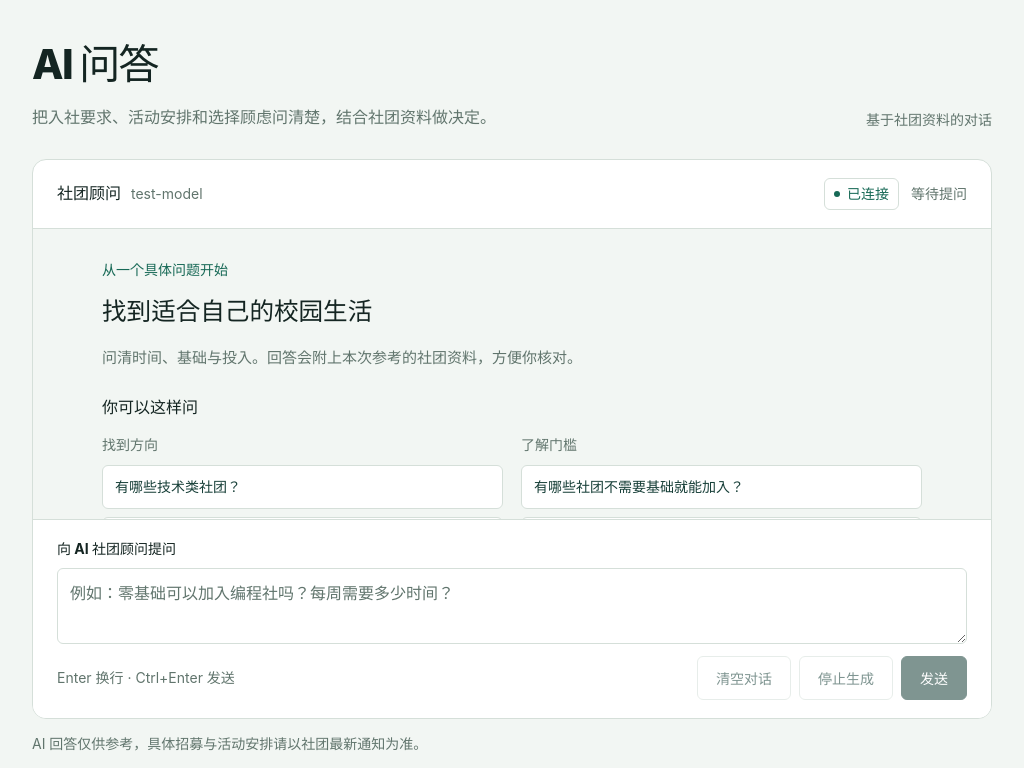
Chat decision workspace › keeps stream errors below the affected partial answer and retries the same question
Click the button "有哪些技术类社团？".
click(178, 486)  # box x1=102 y1=465 x2=503 y2=509
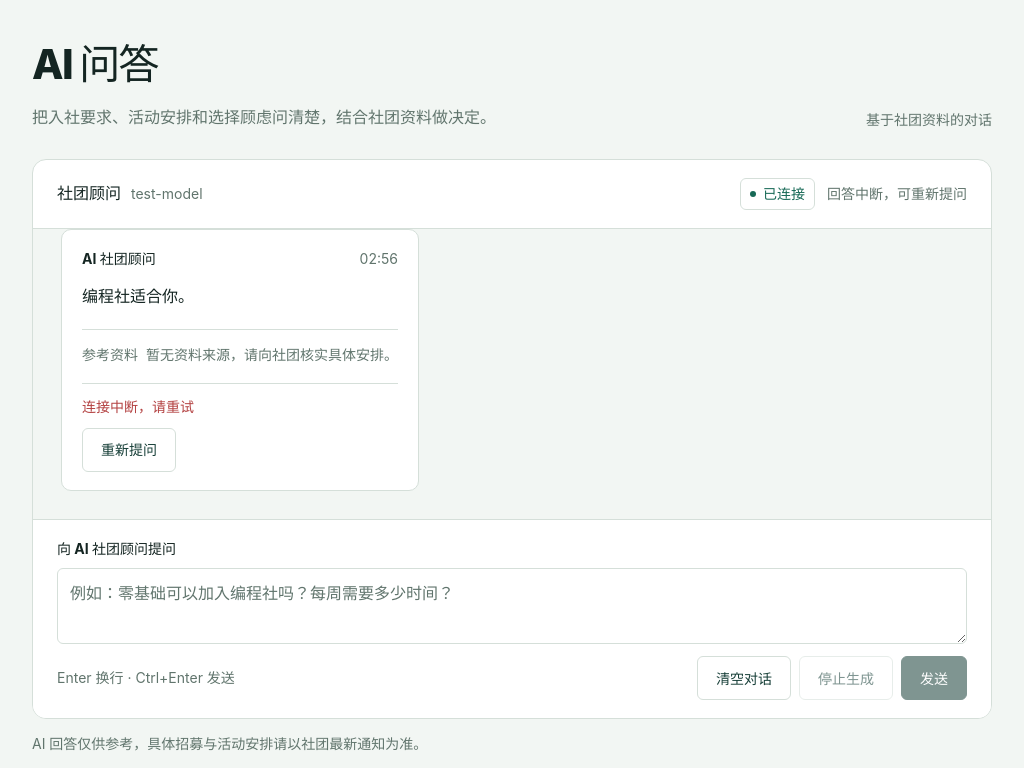
Check: the element with class "assistant" shows "编程社适合你。", box x1=82 y1=286 x2=194 y2=306
Check: the message "连接中断，请重试 重新提问" is shown, box x1=82 y1=382 x2=398 y2=472
Check: the element with class "assistant" shows "暂无资料来源", box x1=146 y1=346 x2=398 y2=363
Click the button "重新提问".
click(129, 450)  # box x1=82 y1=428 x2=176 y2=472
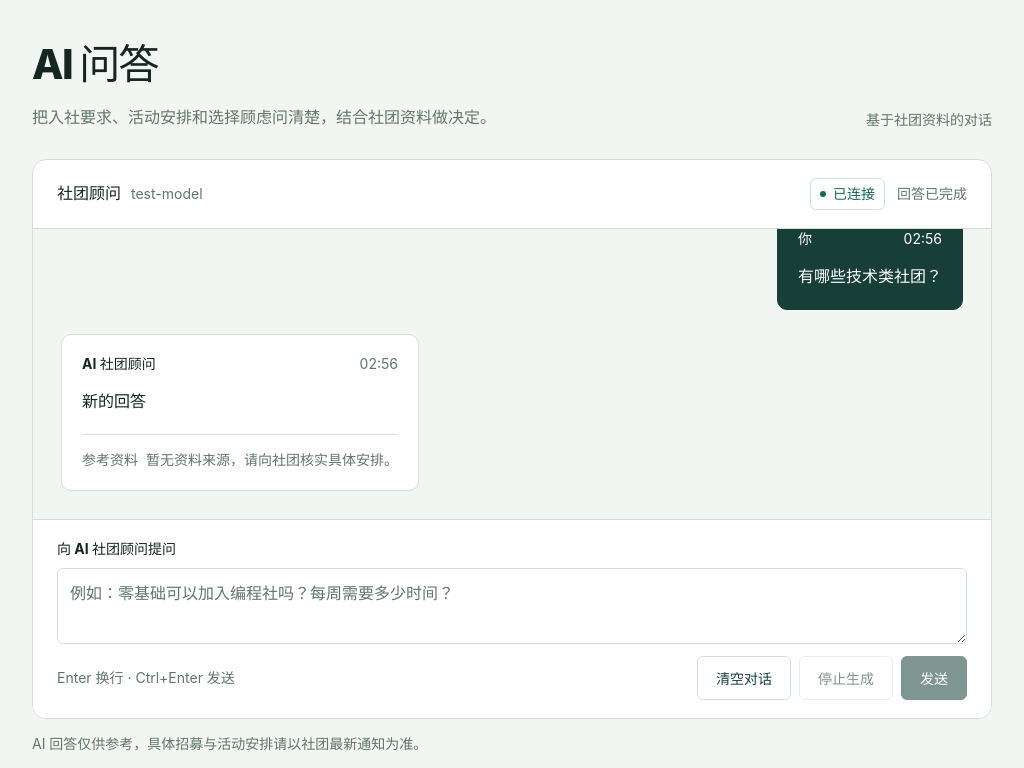
Check: the element with class "assistant" shows "新的回答", box x1=82 y1=392 x2=146 y2=412
